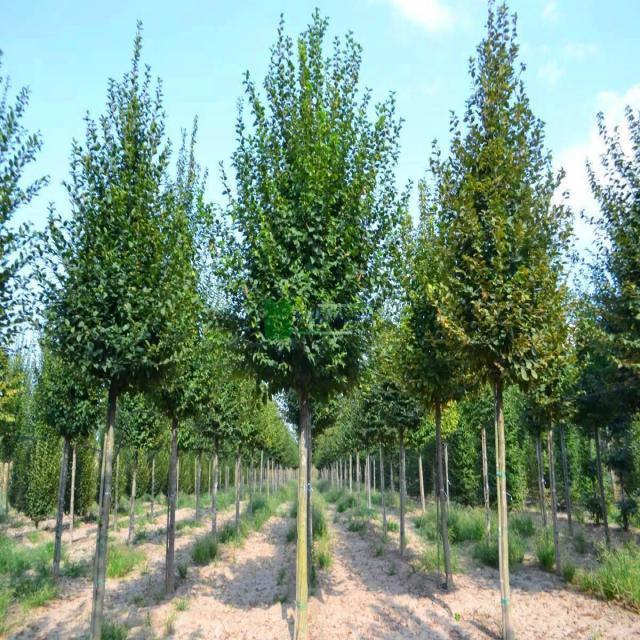Tree: (228, 0, 396, 640), (416, 0, 570, 640), (44, 16, 190, 639), (582, 101, 640, 490)
